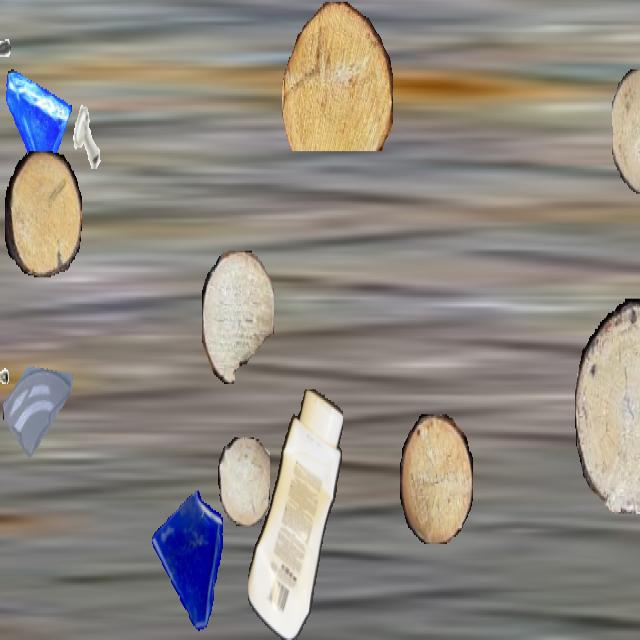glass: (148, 489, 232, 638), (3, 336, 75, 464), (2, 64, 72, 188)
metal: (62, 92, 114, 185), (0, 355, 18, 441), (0, 21, 11, 89)
plastic: (248, 390, 342, 638)
wood: (282, 2, 392, 151), (575, 299, 640, 512), (5, 151, 81, 276), (202, 251, 274, 382), (400, 414, 472, 542), (218, 438, 270, 526), (612, 69, 640, 194)
